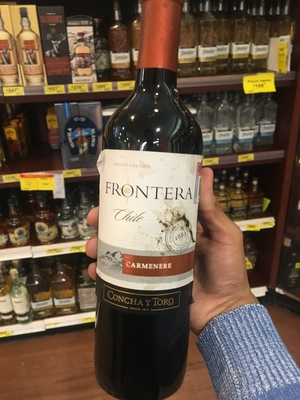frontera carmenere: (86, 12, 208, 384)
